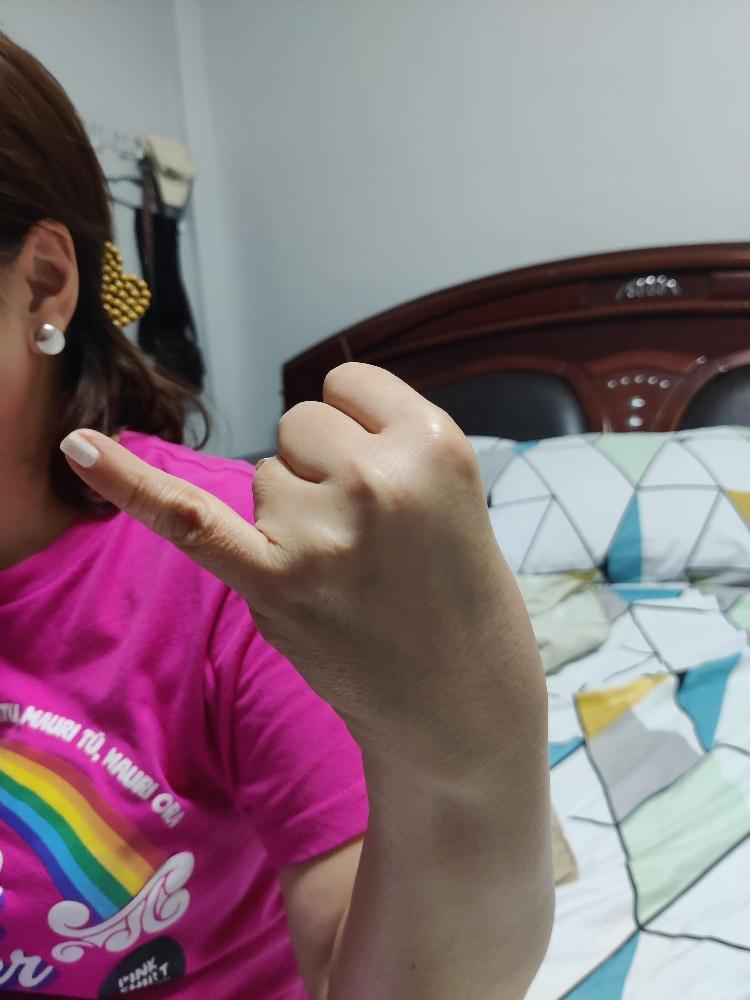j: (56, 359, 546, 749)
